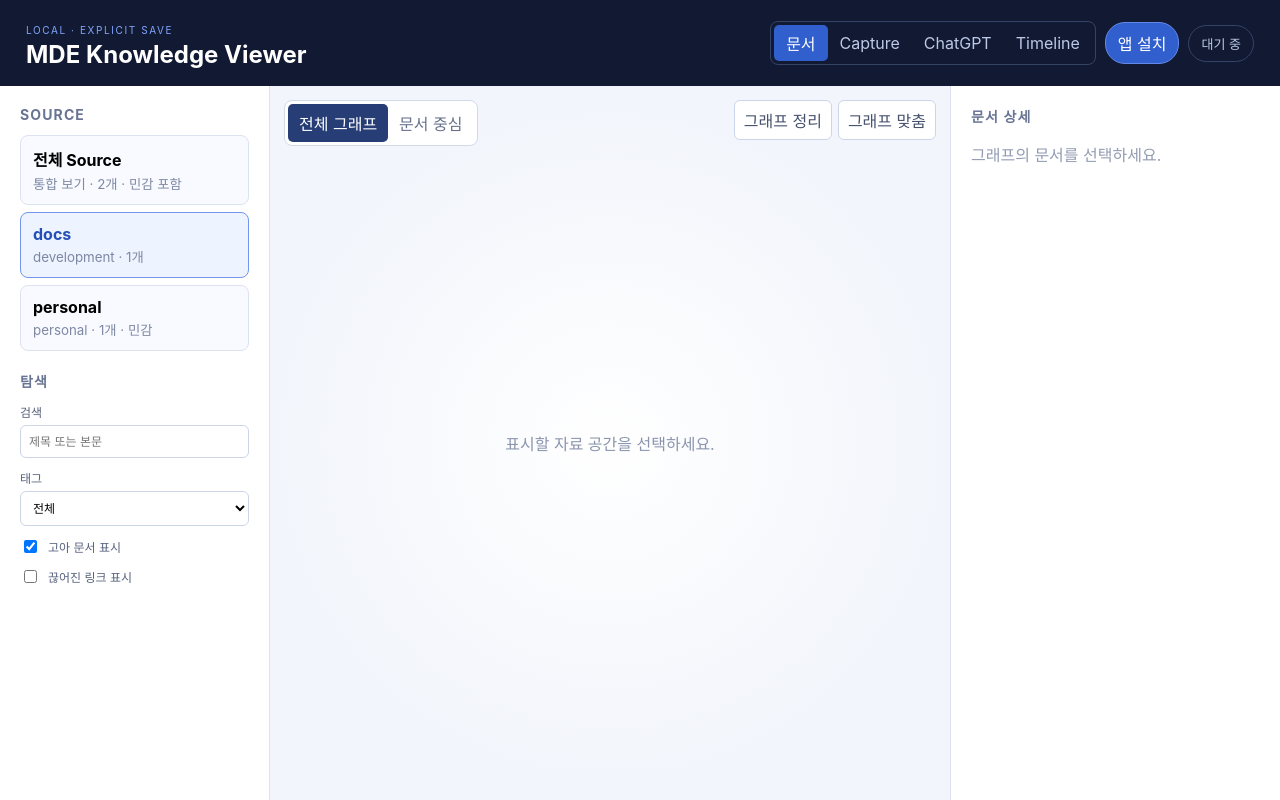
Test: offers installation when the browser provides an install prompt
The width and height of the screenshot is (1280, 800).
Click the button "앱 설치".
click(1142, 43)  # box [1105,22,1180,64]
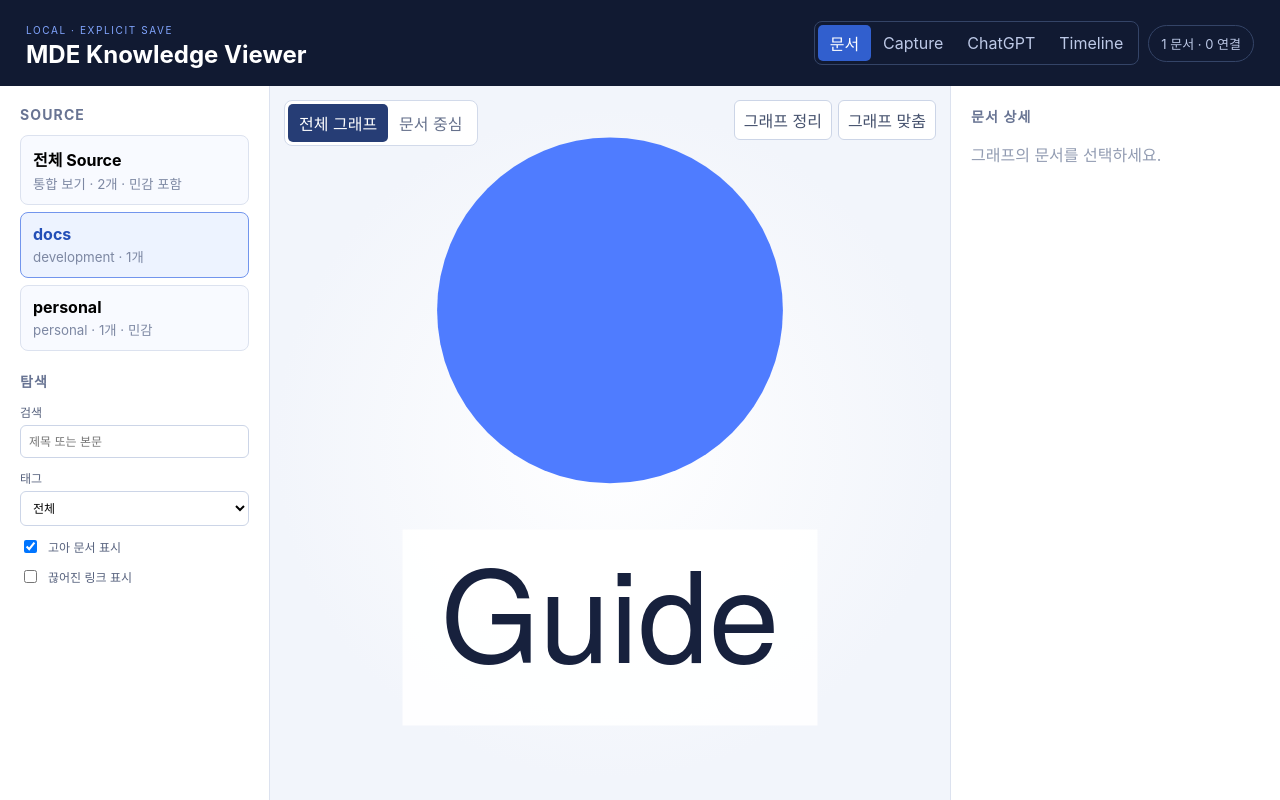
Now the button "앱 설치" is gone
